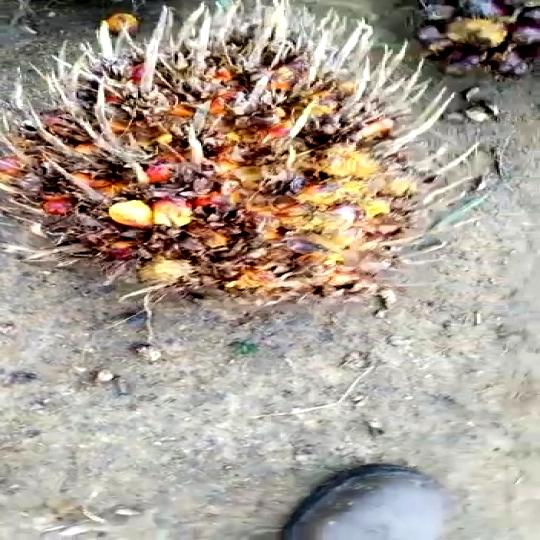terlalu masak: (0, 0, 472, 304)
